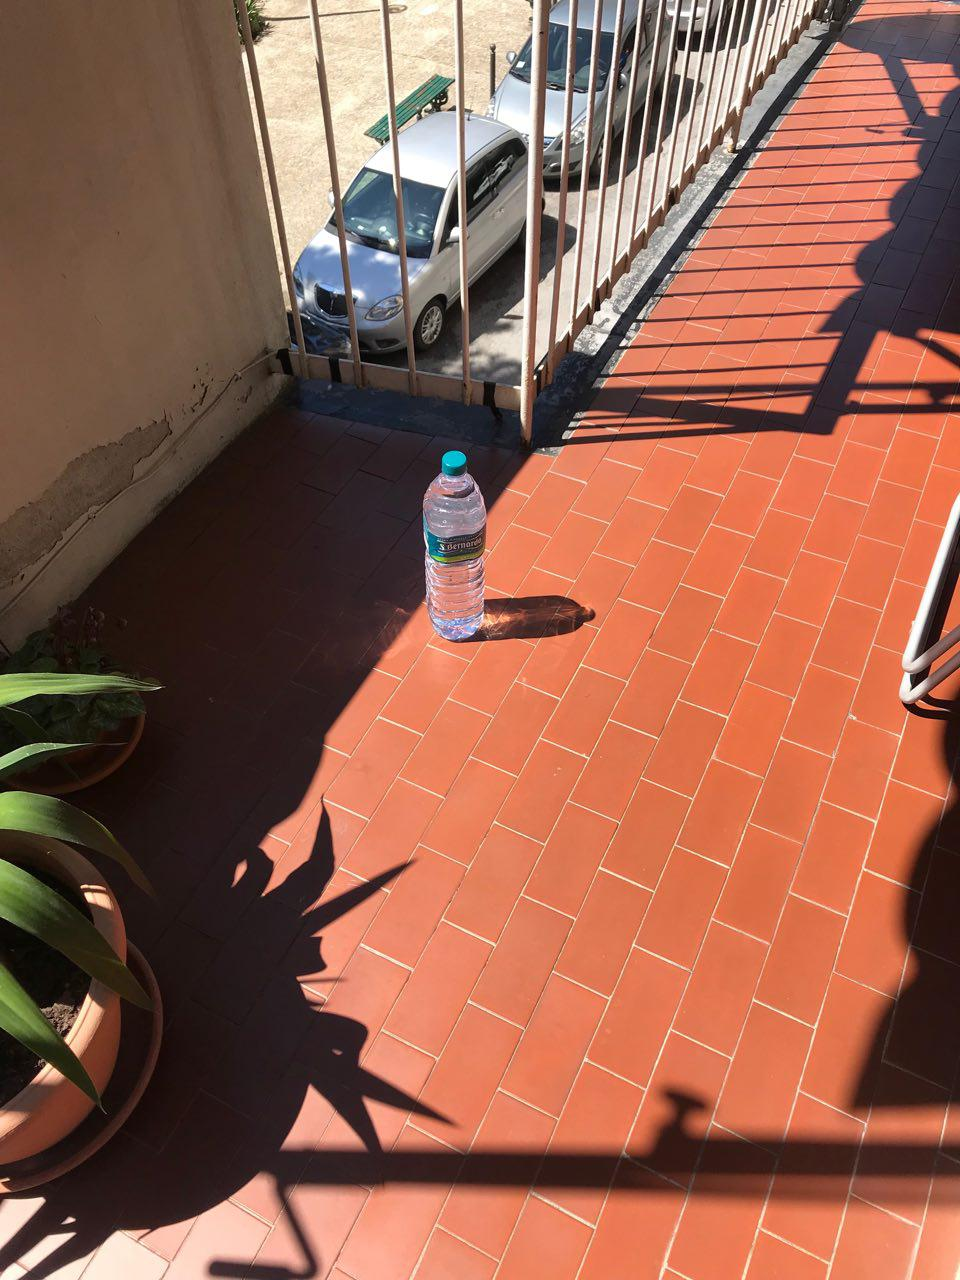san_bernardo: (422, 449, 487, 641)
